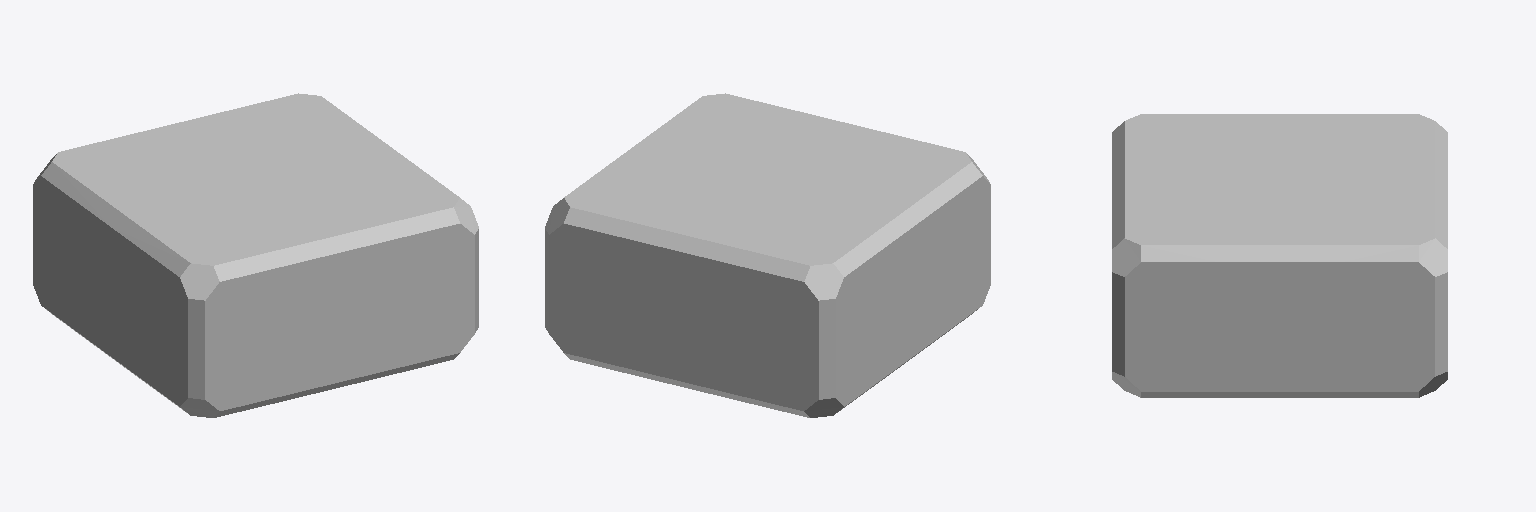
File: YK_Large_Anchor_Collider.obj
The picture shows the model from 3 angles: view 1: azimuth 30°, elevation 25°; view 2: azimuth 150°, elevation 25°; view 3: azimuth 270°, elevation 25°; orthographic projection.
Parts seen in each view (by area): view 1: BF_Block_111.005; view 2: BF_Block_111.005; view 3: BF_Block_111.005.
Part boxes in pixels (bbox=[...]): BF_Block_111.005: bbox=[33, 93, 478, 417]; BF_Block_111.005: bbox=[545, 93, 990, 417]; BF_Block_111.005: bbox=[1112, 114, 1447, 397].
Size of the model in its own units: 2 by 1 by 2.